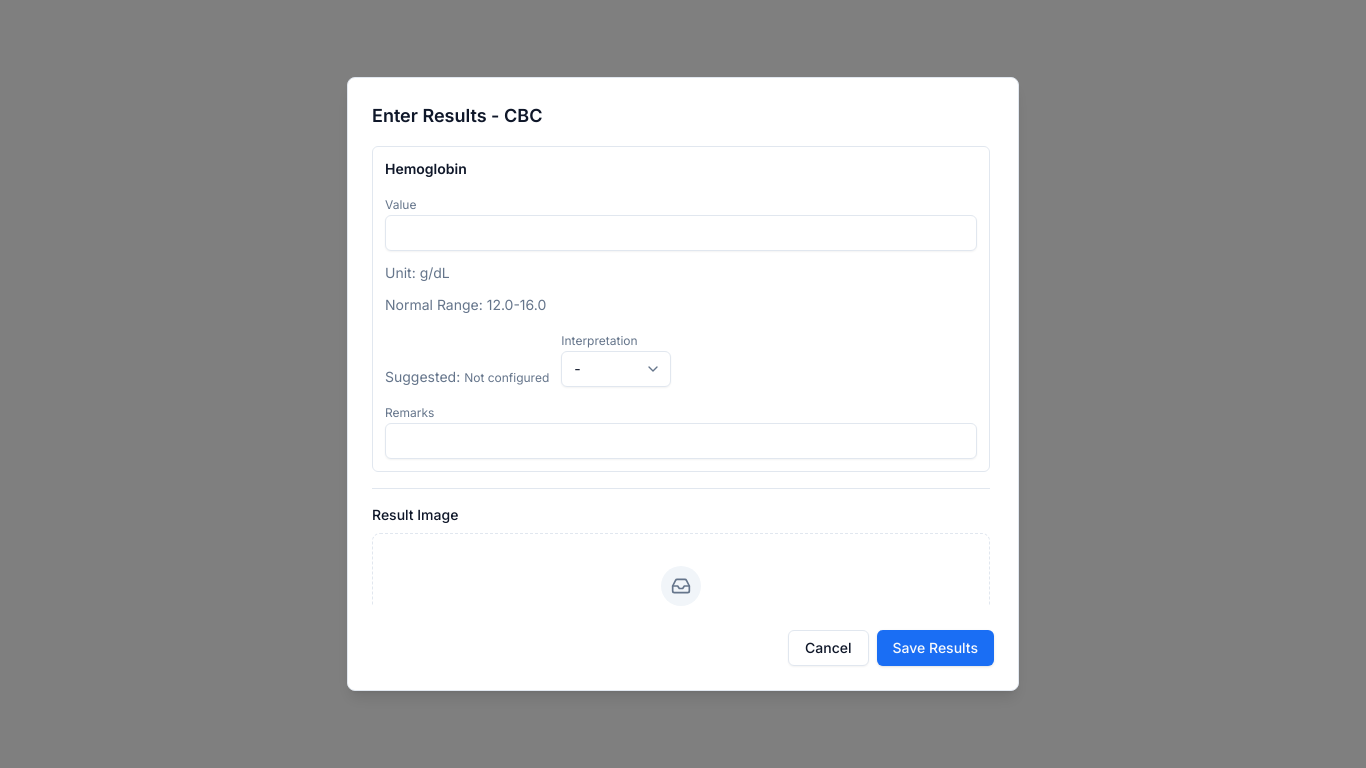
Test case: ResultEntryDialog › Phase 4I: optimistic-concurrency guard on save › surfaces a clear conflict message (not a silent failure) when the save is rejected as stale
This screenshot has width=1366, height=768.
Click the button "Save Results": (935, 648) [876,630,994,666]
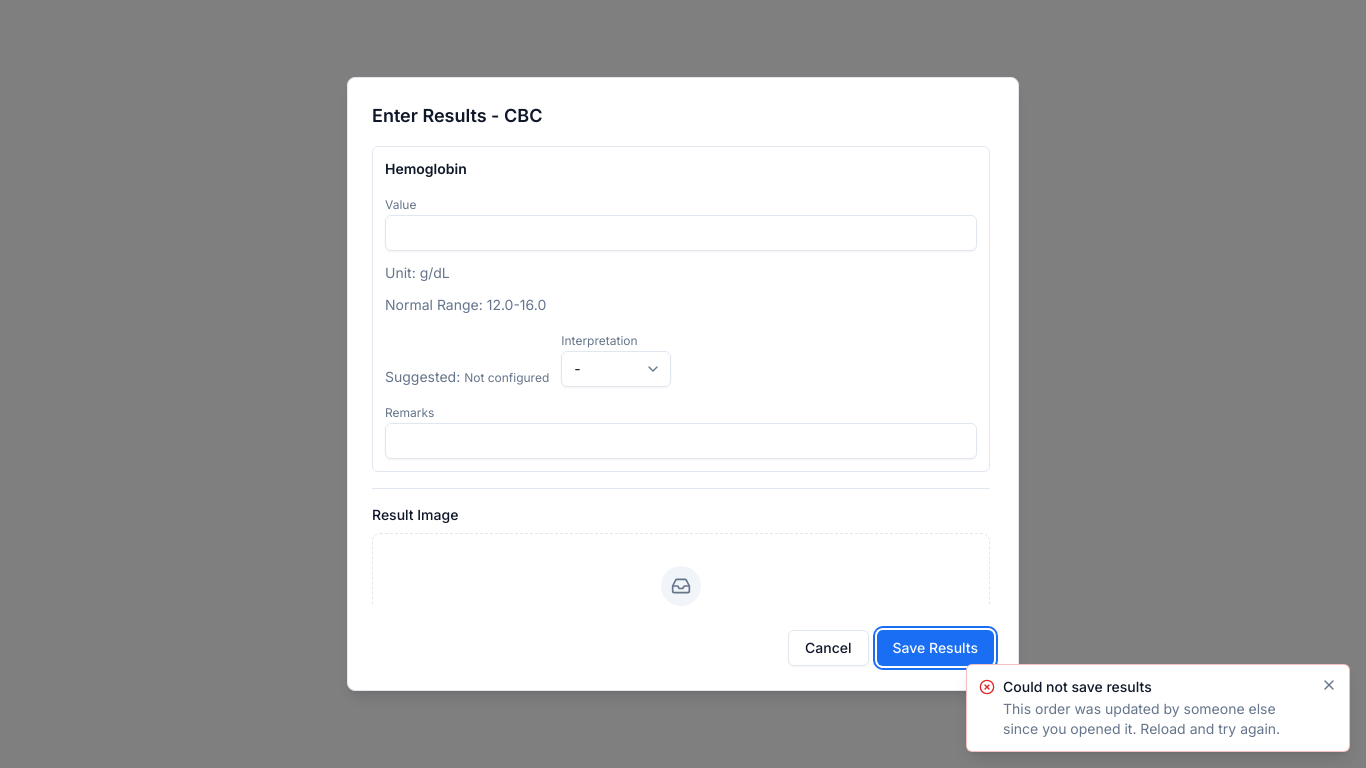
Result: the text "updated by someone else" is shown at [1003,700,1280,737]
